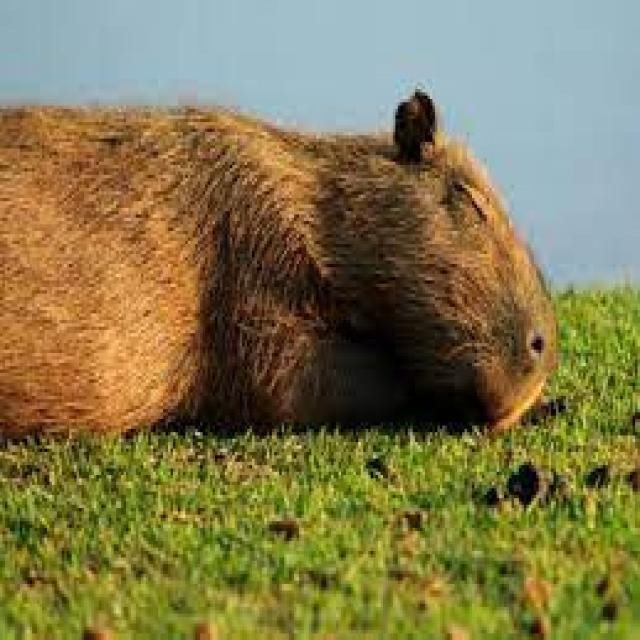capy: (0, 84, 562, 437)
